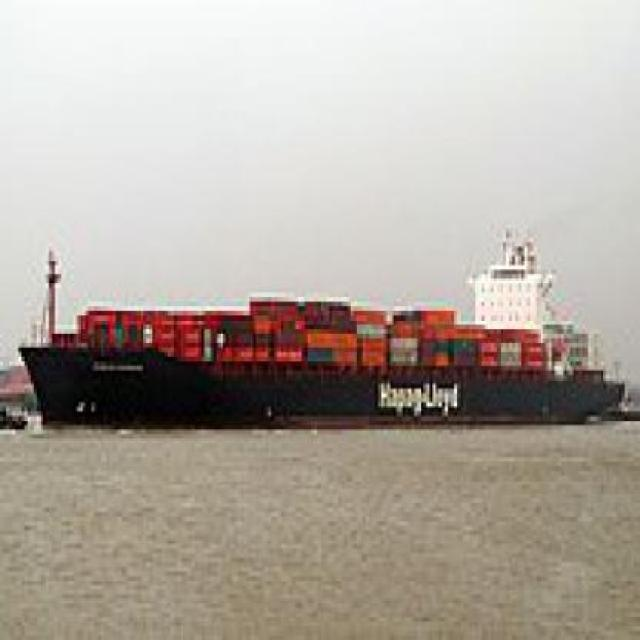container: (10, 220, 629, 445)
